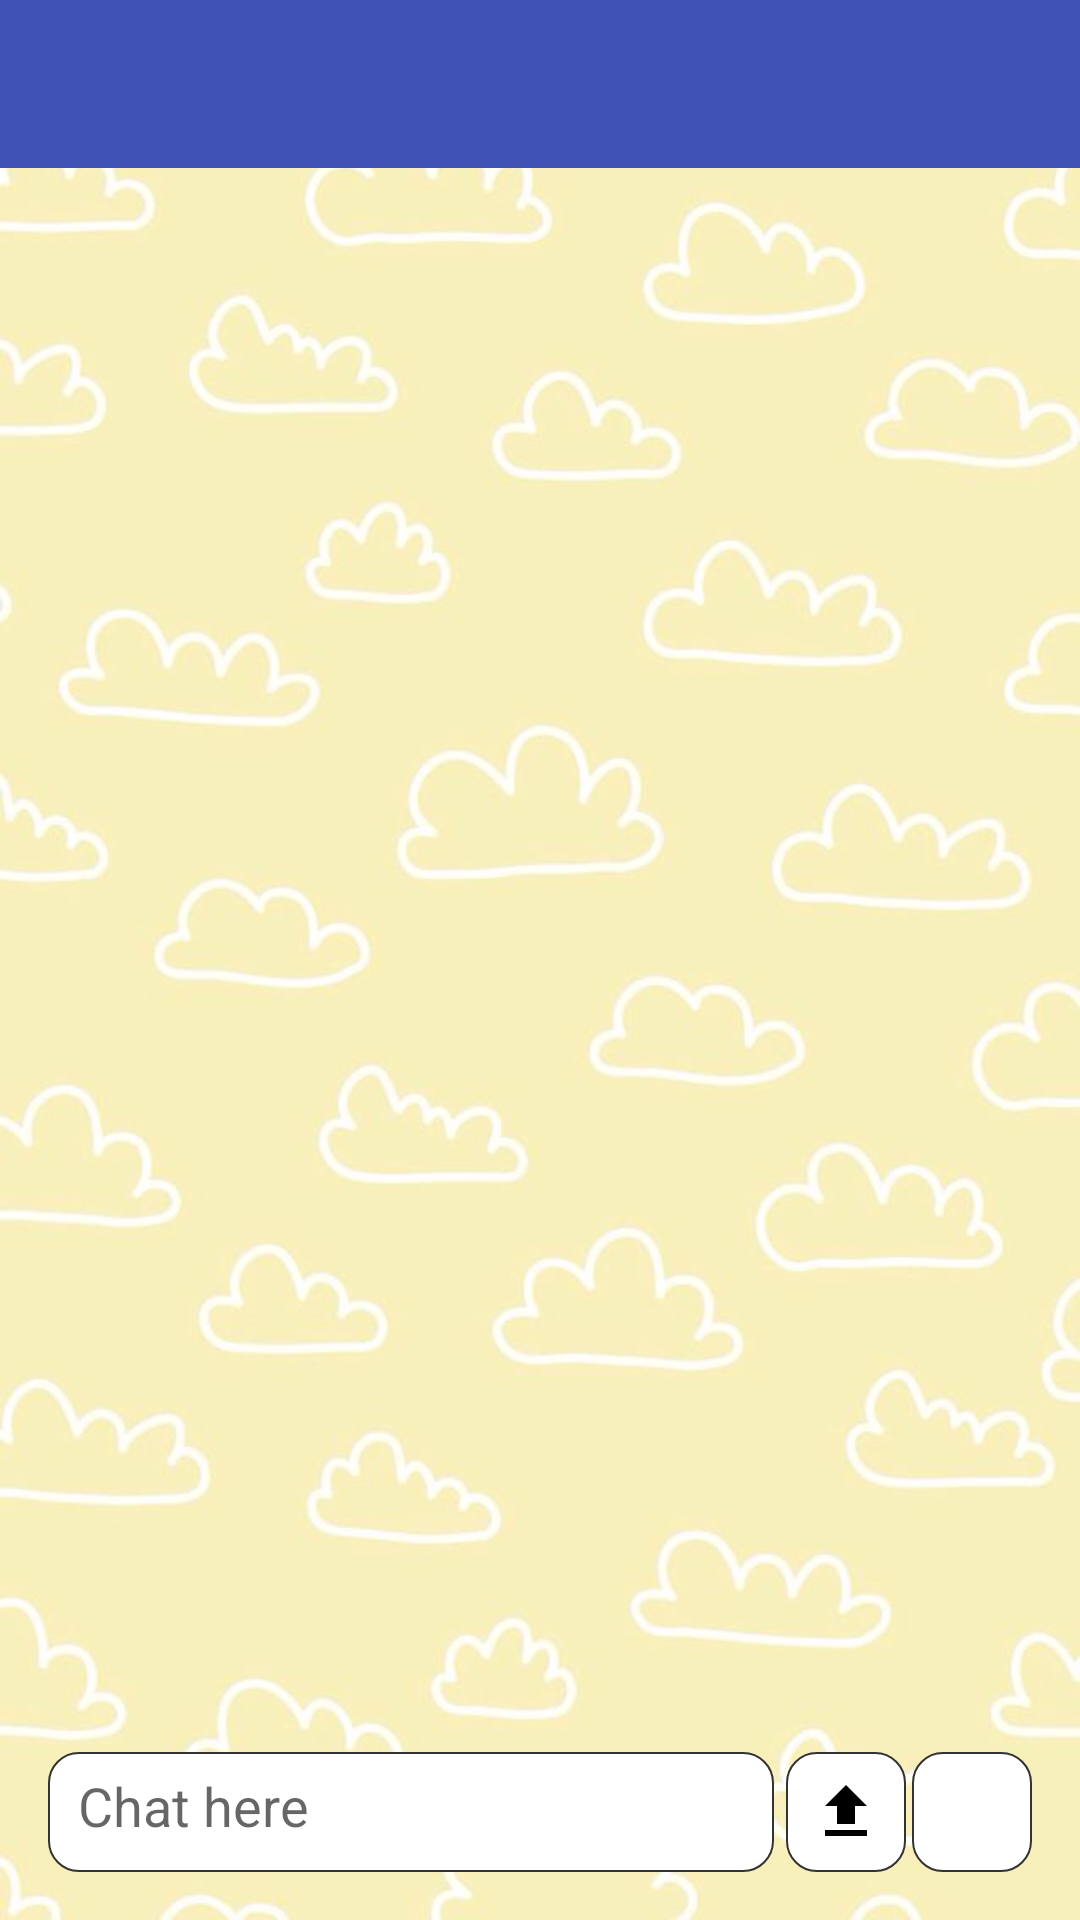

Screen size 1080px x 1920px. Icon name, then its box in pixels as [x1=x1, y1=y1, x2=x2, y2=y2]:
file upload: [x1=786, y1=1752, x2=906, y2=1872]
